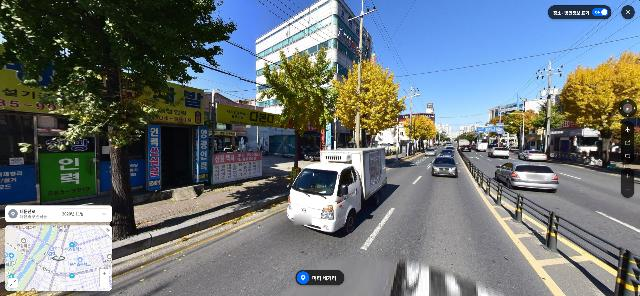ginkgo: (556, 46, 640, 168), (328, 57, 409, 147), (404, 115, 437, 151)
other: (0, 0, 226, 240), (253, 39, 342, 185), (531, 100, 566, 154), (499, 109, 541, 151)
